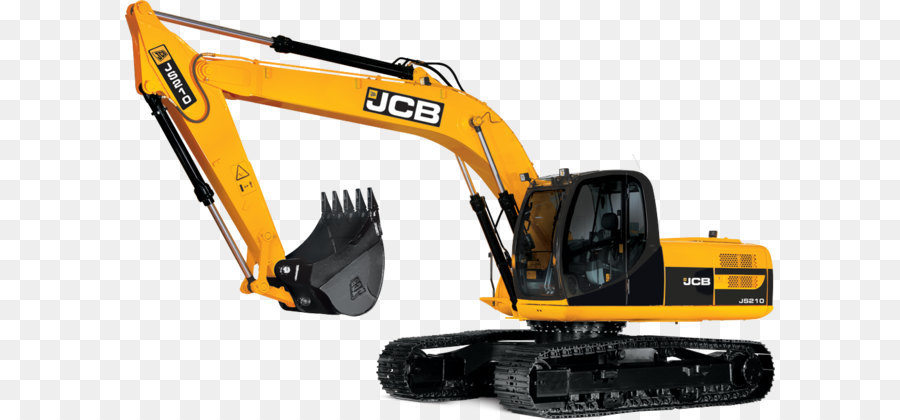backhoe: (123, 2, 784, 419)
